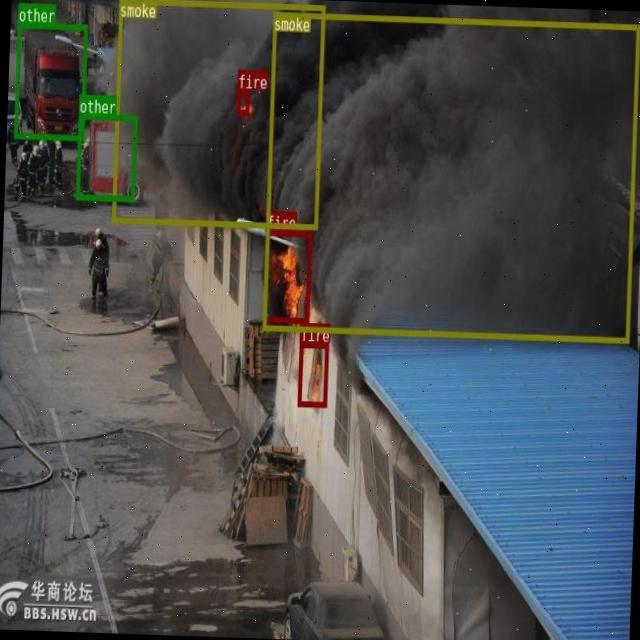fire: (262, 229, 310, 322), (297, 342, 328, 406), (236, 88, 249, 113)
smoke: (262, 11, 638, 342), (111, 0, 324, 229)
